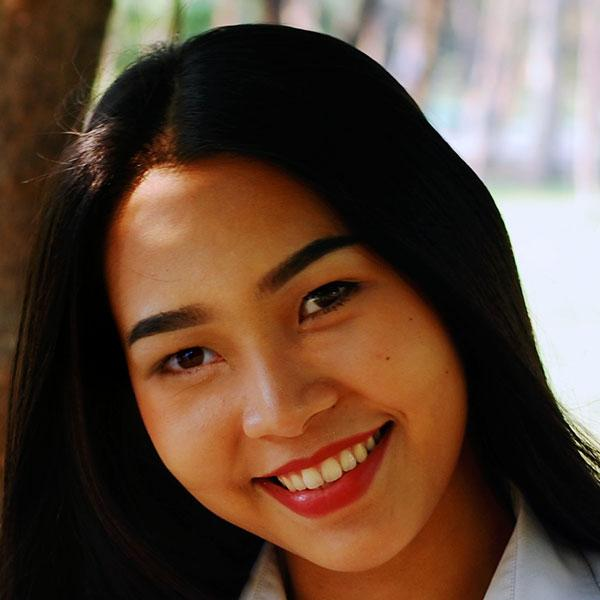Eyes: (282, 266, 371, 334), (146, 331, 232, 395)
